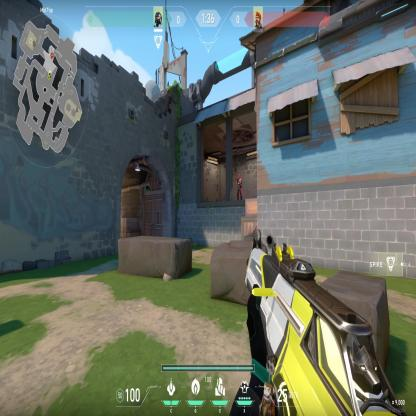enemy: (235, 172, 242, 201)
